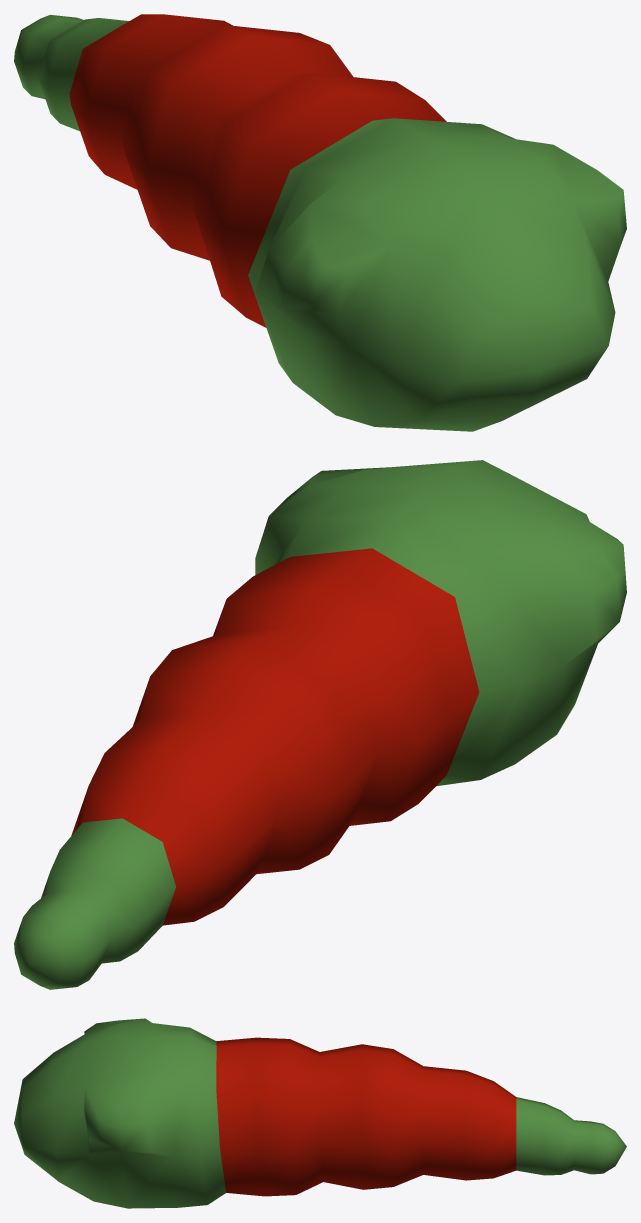
File: snake_yummy.fbx
3 renders of one model, top to bottom at view 1: azimuth 30°, elevation 25°; view 2: azimuth 150°, elevation 25°; view 3: azimuth 270°, elevation 25°, orthographic. The views are drawn at different scales.
Visible parts, largest first — view 1: pCube10; view 2: pCube10; view 3: pCube10.
Boxes of the visible parts, x1,y1,x2,y2 form: pCube10: (14,14,626,431); pCube10: (14,460,626,989); pCube10: (14,1018,626,1208).
Bounding box in the file's own units: 246 × 191 × 638.
